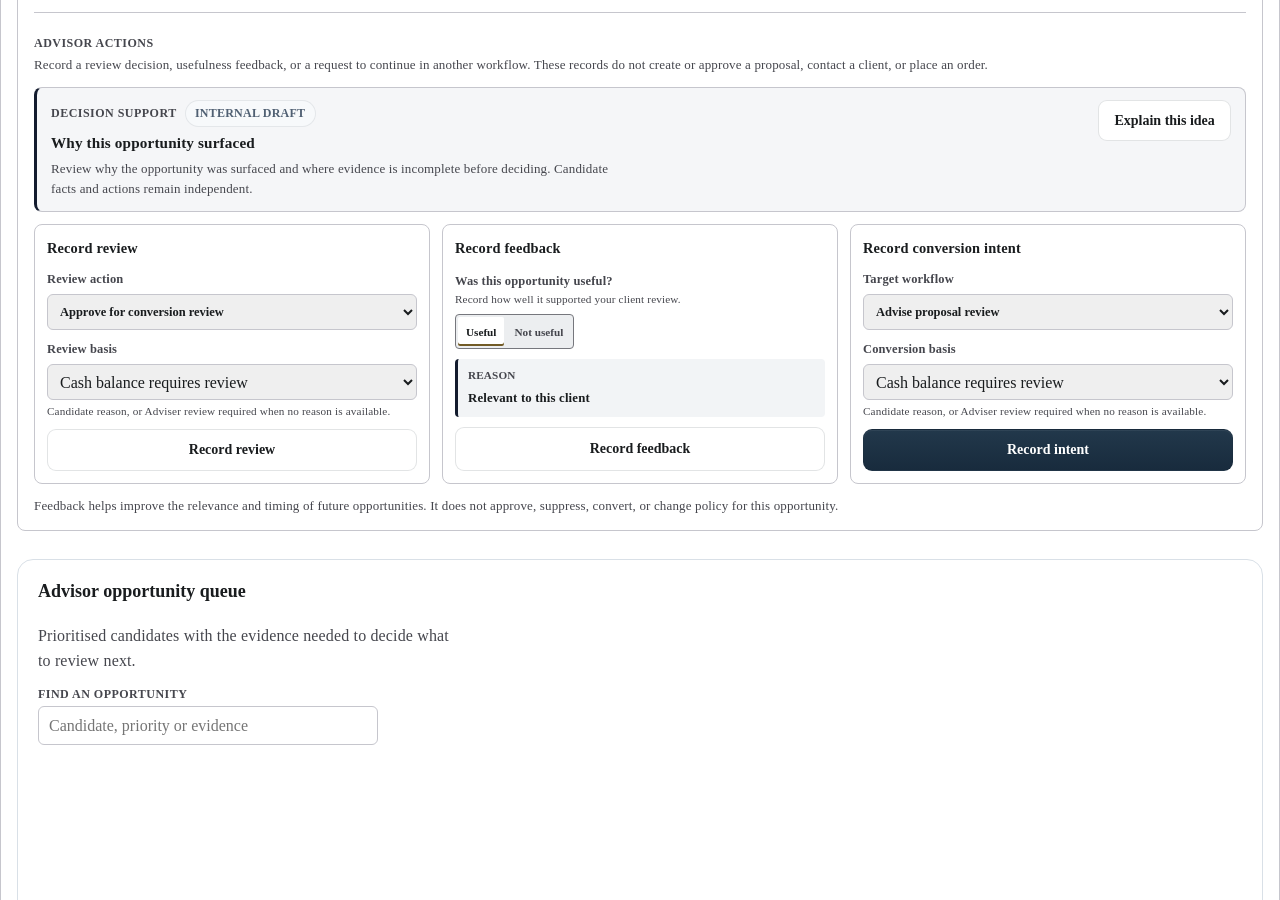
Scenario: AdvisoryOpportunitiesWorkspace › records an advisor review through Gateway and refreshes source-owned detail
The width and height of the screenshot is (1280, 900).
(page scrolled)
Expected: the element named "Idea candidate advisor actions" is shown, [34, 12, 1246, 516]
Click the button "Record review": [232, 450] box [47, 429, 417, 471]
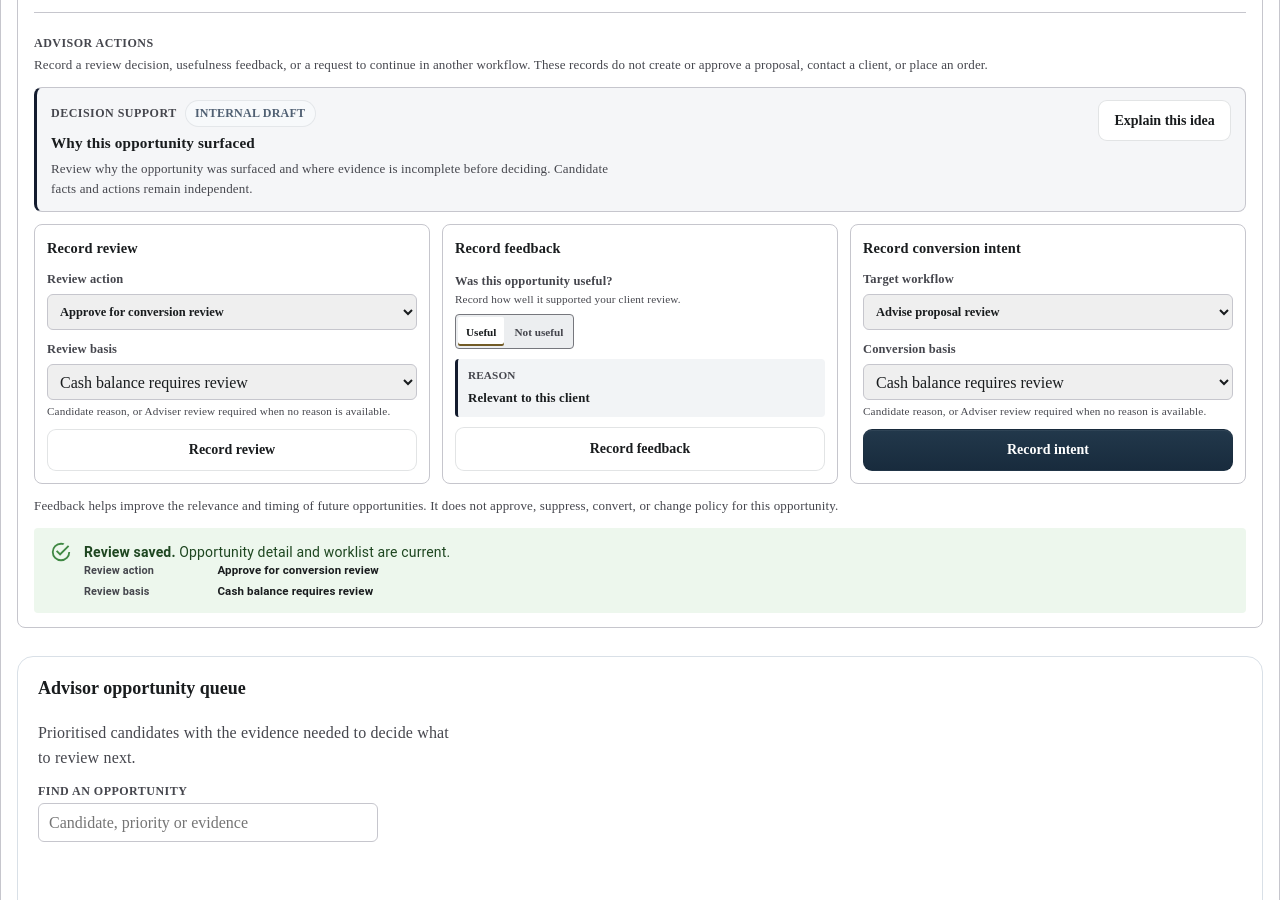
Now the message with test id "idea-action-review-status" shows "Review saved. Opportunity detail and worklist are current.", box [34, 528, 1246, 613]
